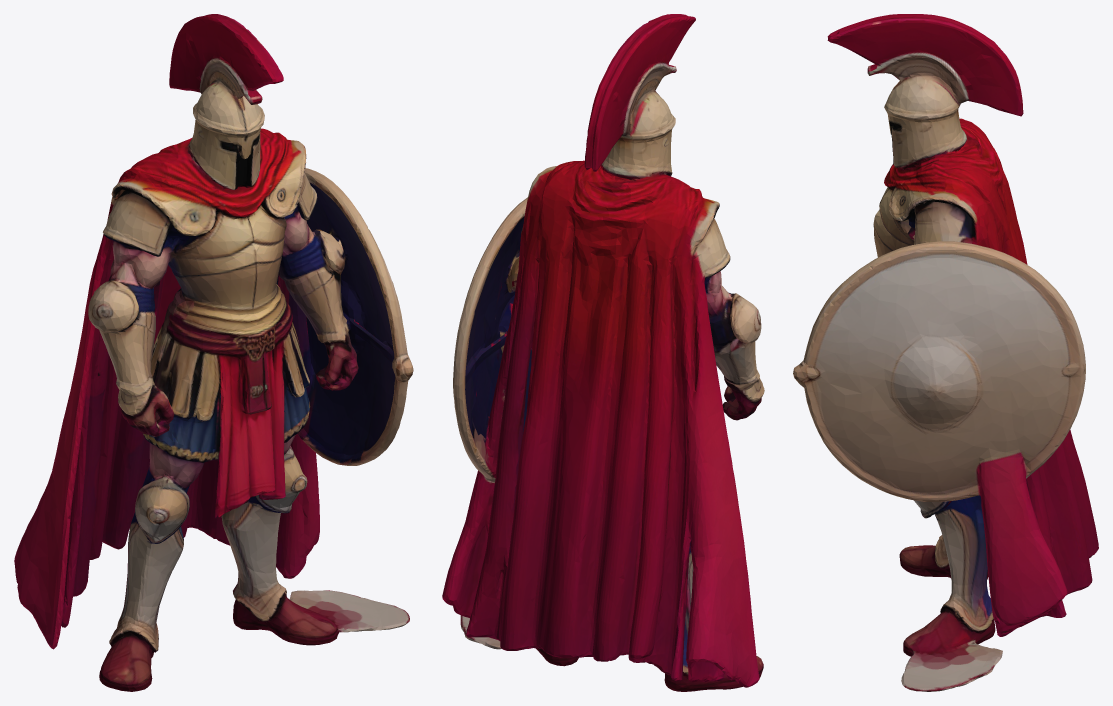
3 renders of one model, left to right at view 1: azimuth 30°, elevation 25°; view 2: azimuth 150°, elevation 25°; view 3: azimuth 270°, elevation 25°, orthographic. The views are drawn at different scales.
Visible parts, largest first — view 1: textured_mesh.obj; view 2: textured_mesh.obj; view 3: textured_mesh.obj.
Part boxes in pixels (bbox=[...]): textured_mesh.obj: bbox=[14, 14, 413, 691]; textured_mesh.obj: bbox=[442, 14, 764, 691]; textured_mesh.obj: bbox=[793, 14, 1098, 691].
Bounding box in the file's own units: 1.07 × 1.99 × 0.9234.
1 material, 1 textured.
